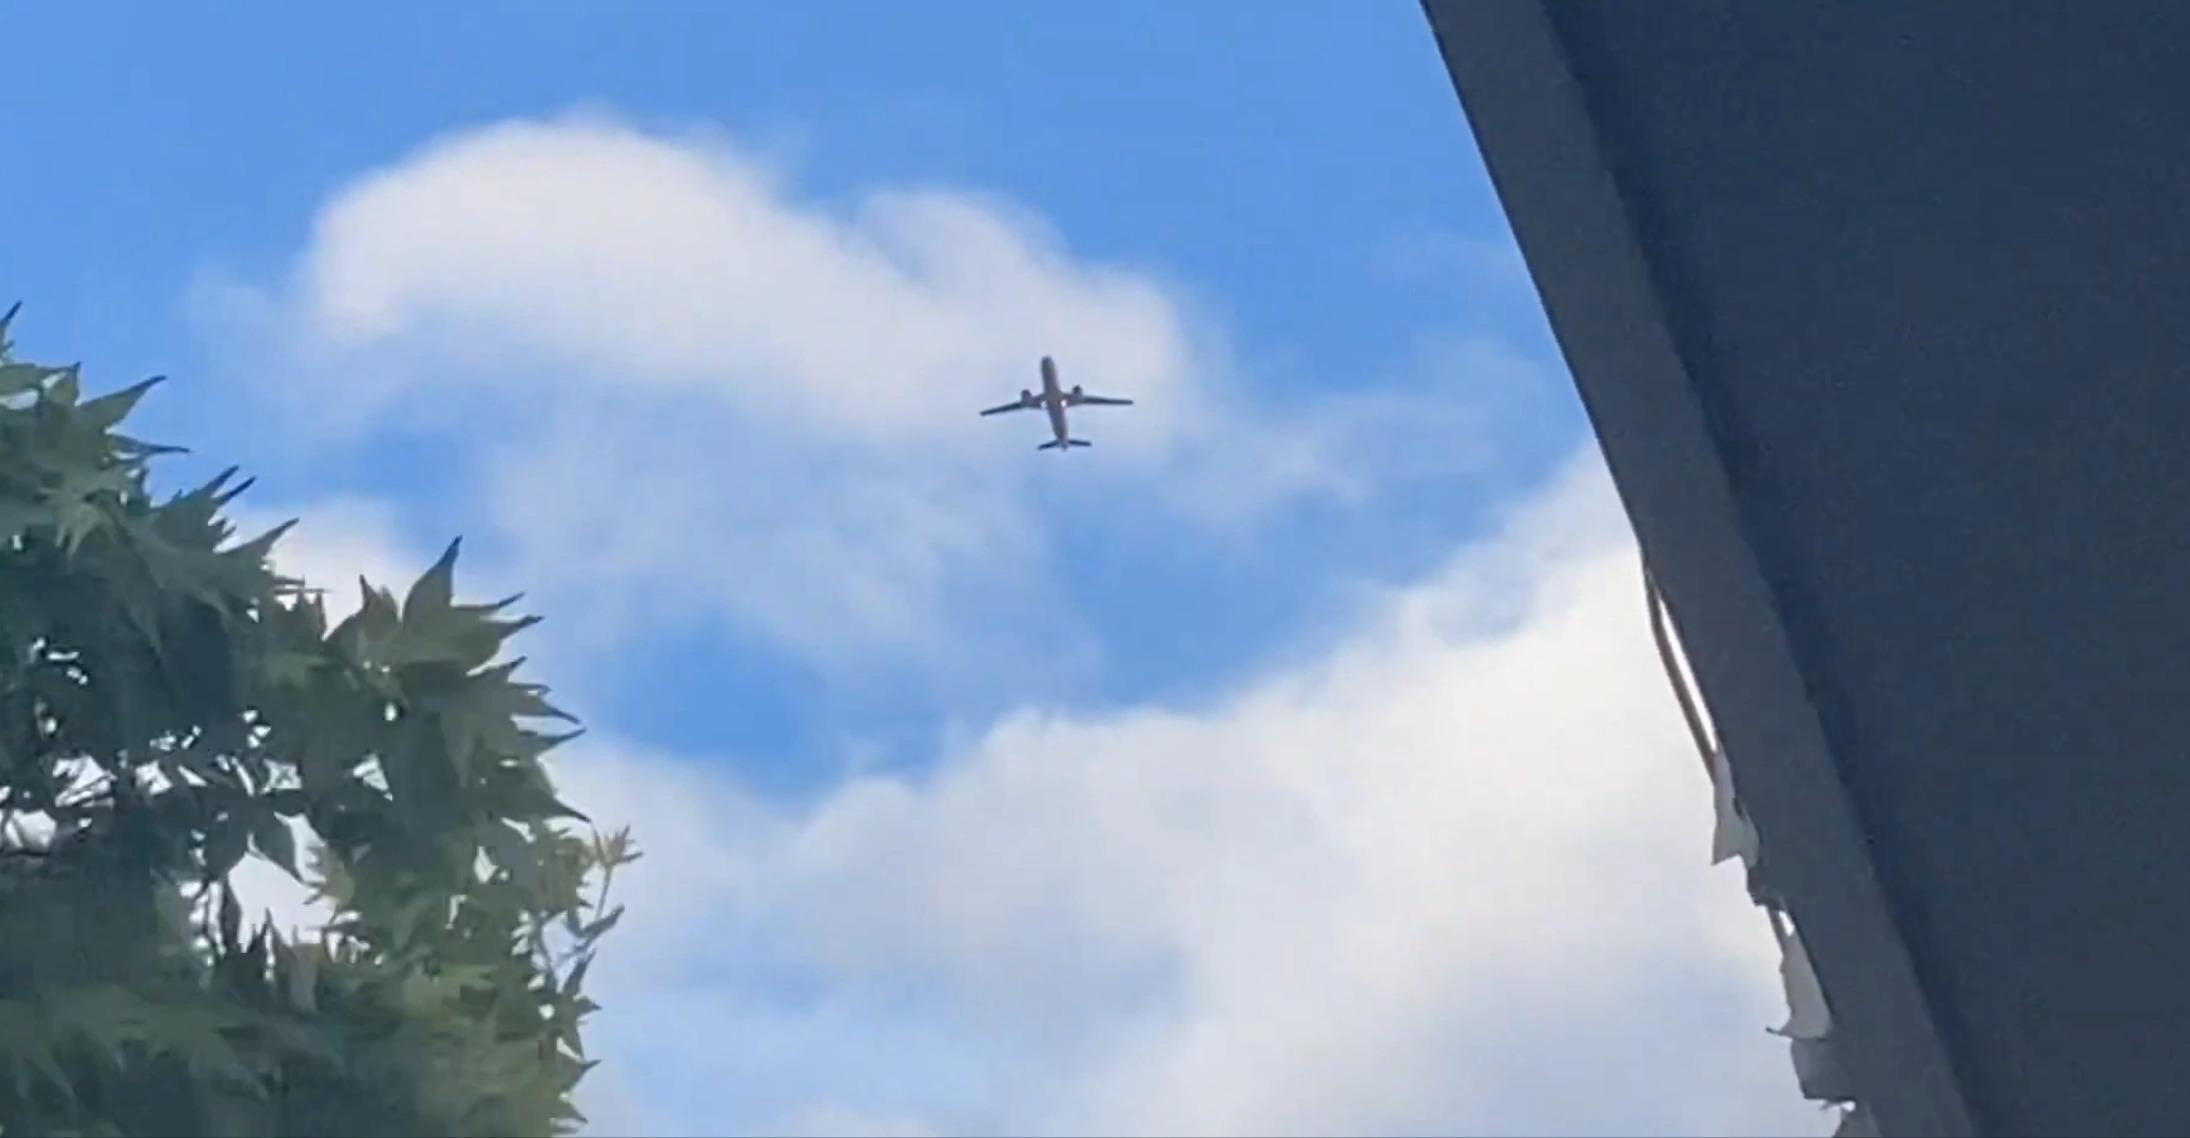Plane: (878, 258, 1188, 492)
